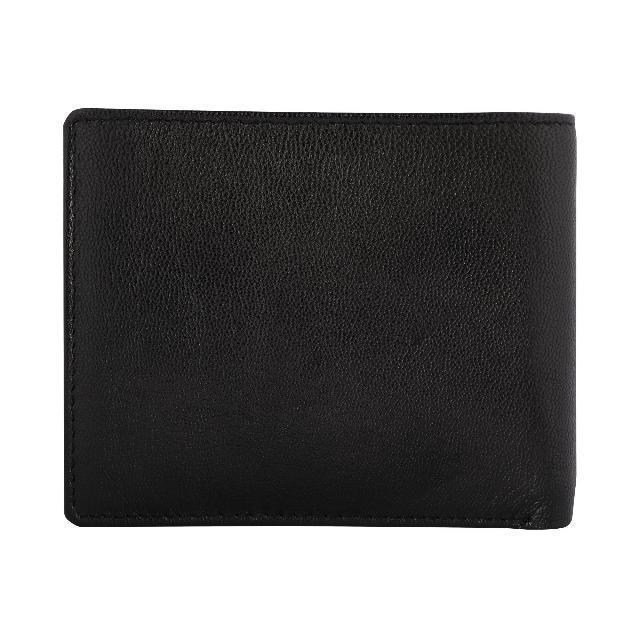wallet: (54, 95, 578, 532)
